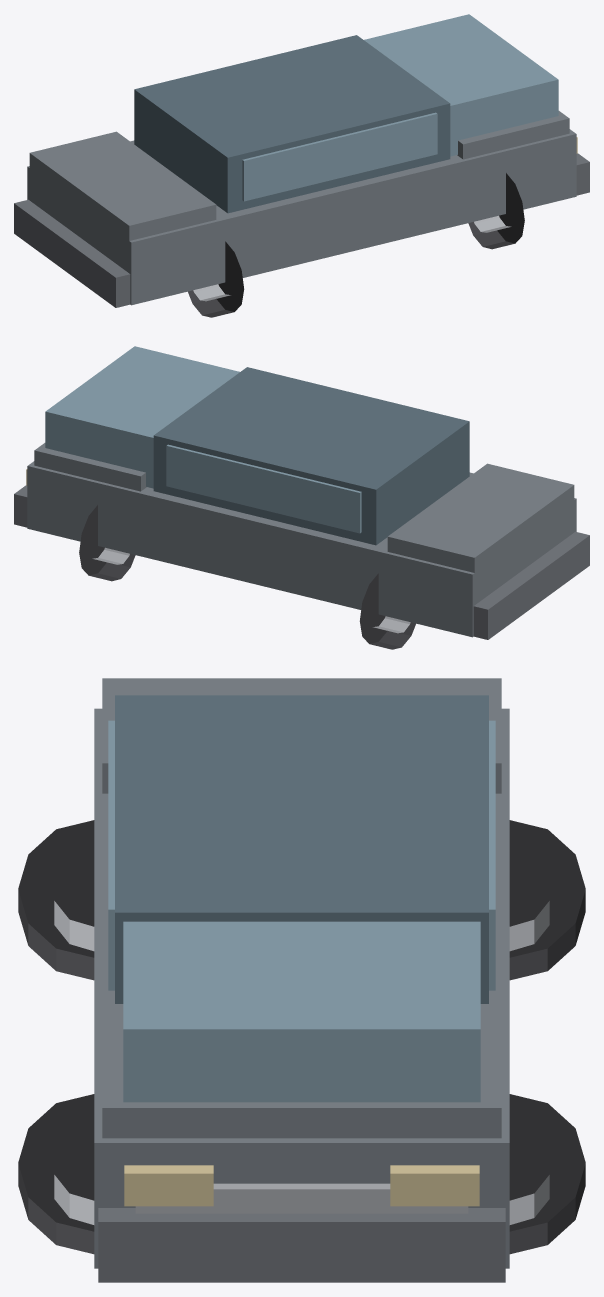
File: car_sedan.glb
3 views of the same model, one above another, from view 1: azimuth 30°, elevation 25°; view 2: azimuth 150°, elevation 25°; view 3: azimuth 270°, elevation 25° (orthographic). The views are drawn at different scales.
Visible parts, largest first — view 1: Car_sedan_body, Car_sedan_cabin, Car_sedan_windshield, Car_sedan_trunk, Car_sedan_glassL, Car_sedan_bumperR, Car_sedan_hood, Car_sedan_wheelRL_tire, Car_sedan_wheelFL_tire, Car_sedan_bumperF; view 2: Car_sedan_body, Car_sedan_cabin, Car_sedan_windshield, Car_sedan_trunk, Car_sedan_glassR, Car_sedan_bumperR, Car_sedan_hood, Car_sedan_wheelRR_tire, Car_sedan_wheelFR_tire, Car_sedan_bumperF; view 3: Car_sedan_cabin, Car_sedan_windshield, Car_sedan_bumperF, Car_sedan_body, Car_sedan_hood, Car_sedan_trunk, Car_sedan_wheelFL_tire, Car_sedan_wheelFR_tire, Car_sedan_wheelRL_tire, Car_sedan_wheelRR_tire, Car_sedan_grille, Car_sedan_lightL (+7 smaller).
Boxes of the visible parts, left/top/right/bottom form: Car_sedan_body: left=27, top=129, right=576, bottom=305; Car_sedan_cabin: left=134, top=35, right=450, bottom=213; Car_sedan_windshield: left=364, top=14, right=558, bottom=156; Car_sedan_trunk: left=29, top=131, right=216, bottom=242; Car_sedan_glassL: left=242, top=112, right=437, bottom=201; Car_sedan_bumperR: left=14, top=199, right=130, bottom=307; Car_sedan_hood: left=457, top=111, right=569, bottom=159; Car_sedan_wheelRL_tire: left=188, top=241, right=244, bottom=317; Car_sedan_wheelFL_tire: left=468, top=173, right=524, bottom=249; Car_sedan_bumperF: left=576, top=153, right=589, bottom=195; Car_sedan_body: left=27, top=461, right=576, bottom=637; Car_sedan_cabin: left=153, top=367, right=469, bottom=545; Car_sedan_windshield: left=45, top=346, right=239, bottom=488; Car_sedan_trunk: left=387, top=463, right=574, bottom=575; Car_sedan_glassR: left=166, top=444, right=361, bottom=533; Car_sedan_bumperR: left=473, top=531, right=589, bottom=639; Car_sedan_hood: left=34, top=443, right=146, bottom=491; Car_sedan_wheelRR_tire: left=359, top=573, right=415, bottom=649; Car_sedan_wheelFR_tire: left=79, top=505, right=135, bottom=581; Car_sedan_bumperF: left=14, top=485, right=27, bottom=527; Car_sedan_cabin: left=115, top=695, right=488, bottom=1003; Car_sedan_windshield: left=123, top=921, right=480, bottom=1102; Car_sedan_bumperF: left=98, top=1208, right=505, bottom=1282; Car_sedan_body: left=94, top=708, right=509, bottom=1268; Car_sedan_hood: left=102, top=1004, right=501, bottom=1138; Car_sedan_trunk: left=102, top=678, right=501, bottom=793; Car_sedan_wheelFL_tire: left=18, top=1094, right=94, bottom=1254; Car_sedan_wheelFR_tire: left=509, top=1094, right=585, bottom=1254; Car_sedan_wheelRL_tire: left=18, top=820, right=94, bottom=980; Car_sedan_wheelRR_tire: left=509, top=820, right=585, bottom=980; Car_sedan_grille: left=135, top=1183, right=468, bottom=1213; Car_sedan_lightL: left=124, top=1165, right=213, bottom=1206.
Bounding box in the file's own units: 4.9 × 1.45 × 2.54.
